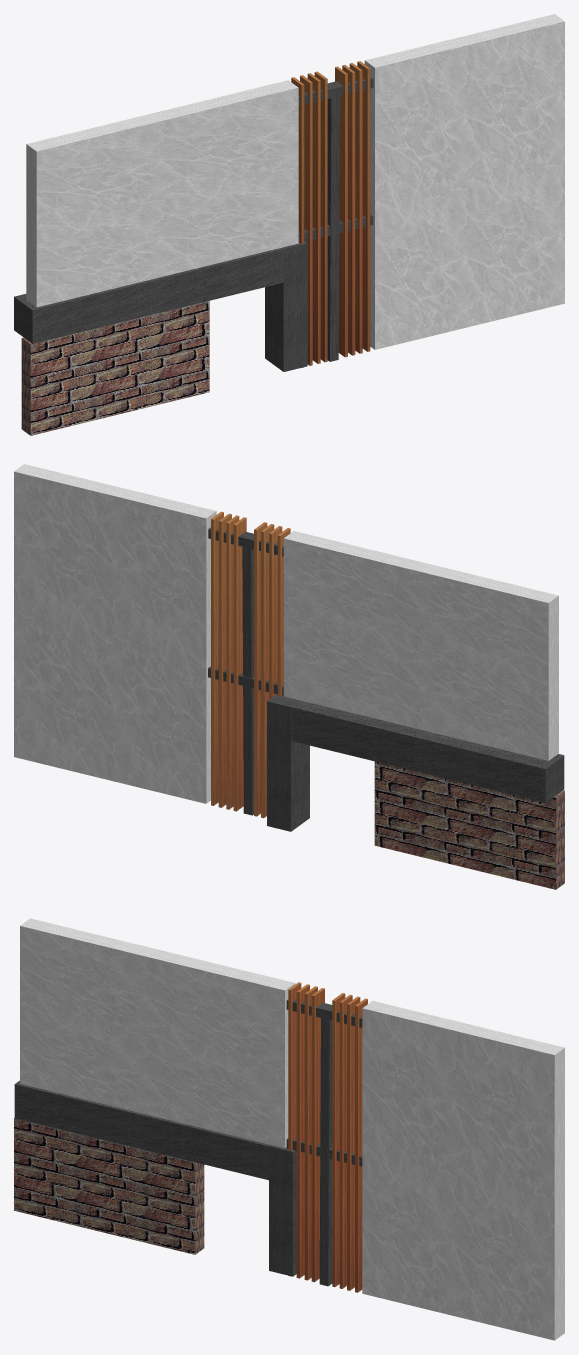
The model's file is fachada.obj.
3 renders of one model, top to bottom at view 1: azimuth 30°, elevation 25°; view 2: azimuth 150°, elevation 25°; view 3: azimuth 330°, elevation 25°, orthographic.
Visible parts, largest first — view 1: pCube11, pCube10, pCube9, pCube8, pCube7, pCube13, pCube19, pCube15, pCube20, pCube17, pCube16, pCube18 (+3 smaller); view 2: pCube11, pCube10, pCube9, pCube8, pCube7, pCube19, pCube13, pCube16, pCube17, pCube15, pCube20, pCube18 (+2 smaller); view 3: pCube11, pCube10, pCube9, pCube8, pCube7, pCube13, pCube18, pCube21, pCube20, pCube16, pCube17, pCube15 (+3 smaller).
Boxes of the visible parts, x1,y1,x2,y2 form: pCube11: (364,14,564,349); pCube10: (26,80,298,307); pCube9: (21,301,209,435); pCube8: (14,247,283,343); pCube7: (265,241,307,371); pCube13: (327,93,339,361); pCube19: (335,66,347,357); pCube15: (357,61,370,351); pCube20: (307,73,320,363); pCube17: (342,65,355,355); pCube16: (349,63,362,353); pCube18: (314,71,327,362); pCube11: (14,464,216,803); pCube10: (283,531,558,760); pCube9: (374,761,564,889); pCube8: (291,700,564,802); pCube7: (267,694,309,831); pCube19: (233,517,246,811); pCube13: (242,546,253,815); pCube16: (218,513,231,807); pCube17: (226,515,239,809); pCube15: (211,511,223,805); pCube20: (261,524,274,818); pCube18: (254,522,267,816); pCube11: (362,1001,564,1340); pCube10: (20,918,295,1148); pCube9: (14,1118,204,1254); pCube8: (14,1080,270,1180); pCube7: (269,1145,296,1276); pCube13: (319,1015,332,1286); pCube18: (311,988,324,1282); pCube21: (296,984,309,1278); pCube20: (304,986,317,1280); pCube16: (347,996,360,1290); pCube17: (339,994,352,1288); pCube15: (355,998,367,1292).
Bounding box in the file's own units: 10.45 × 5.32 × 0.6366.
Materials: 16 (16 with a texture image).
